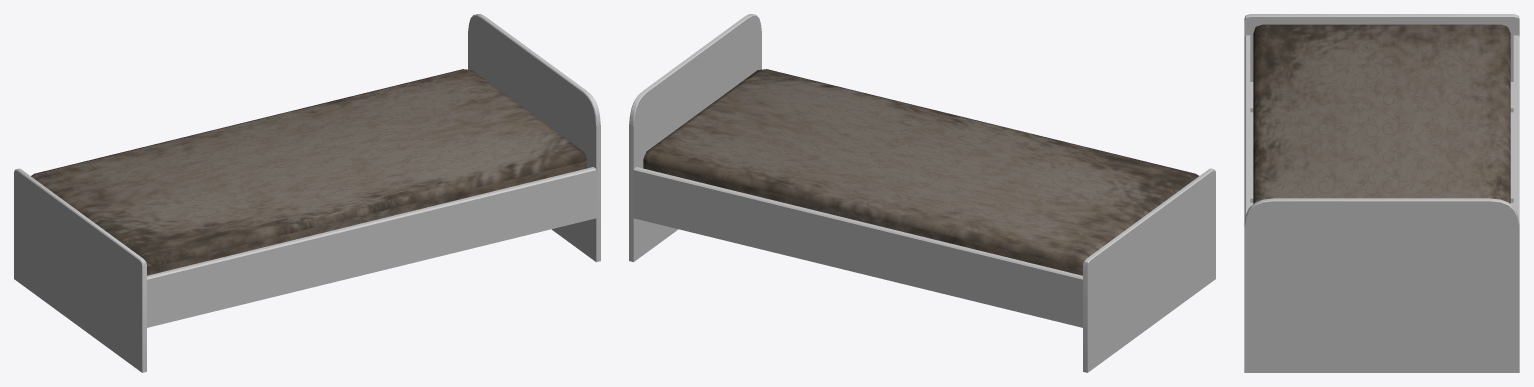
File: SingleBed.FBX
3 views of the same model, side by side, from view 1: azimuth 30°, elevation 25°; view 2: azimuth 150°, elevation 25°; view 3: azimuth 270°, elevation 25° (orthographic). The views are drawn at different scales.
Parts seen in each view (by area): view 1: SingleMattress, SingleBed; view 2: SingleMattress, SingleBed; view 3: SingleBed, SingleMattress.
Boxes of the visible parts, x1,y1,x2,y2 form: SingleMattress: (31,69,586,275); SingleBed: (14,14,600,372); SingleMattress: (643,69,1198,275); SingleBed: (629,14,1215,372); SingleBed: (1244,14,1519,372); SingleMattress: (1253,24,1510,203).
Size of the model in its own units: 194 by 94.04 by 65.
